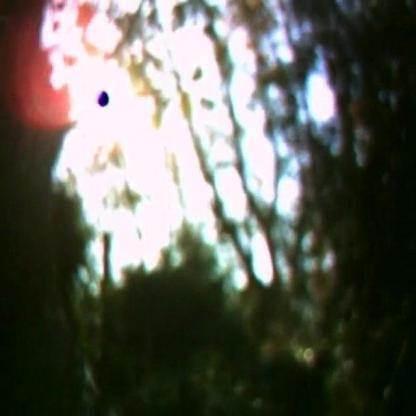other: (39, 11, 348, 288)
